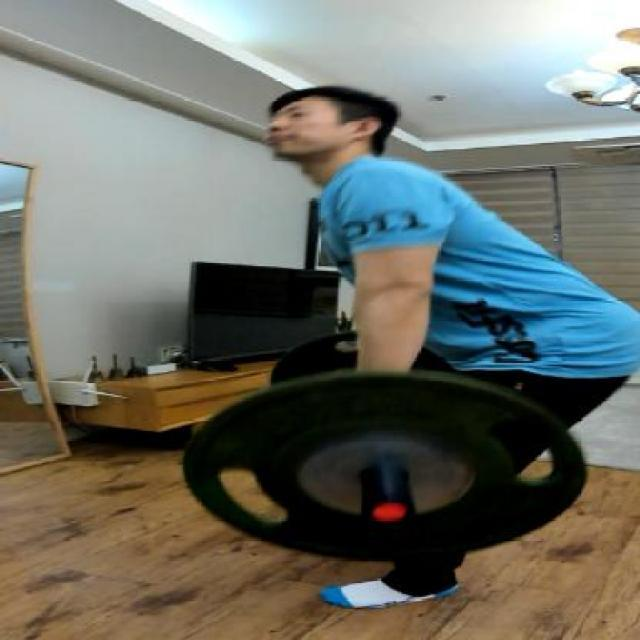Barbell: (360, 494, 422, 530)
